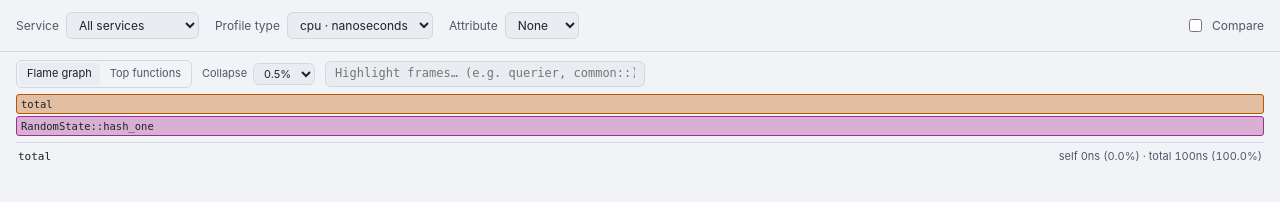
Test: ProfilesView › long Rust symbol names › shows the same tooltip on the top-functions rows
The image size is (1280, 202).
Expected: the button named "<std::hash::random::RandomState as core::hash::BuildHasher>::hash_one::<&uuid::Uuid>" is shown, [16,116,1264,136]
Click the tab "Top functions".
click(145, 74)  # box [102,63,189,85]
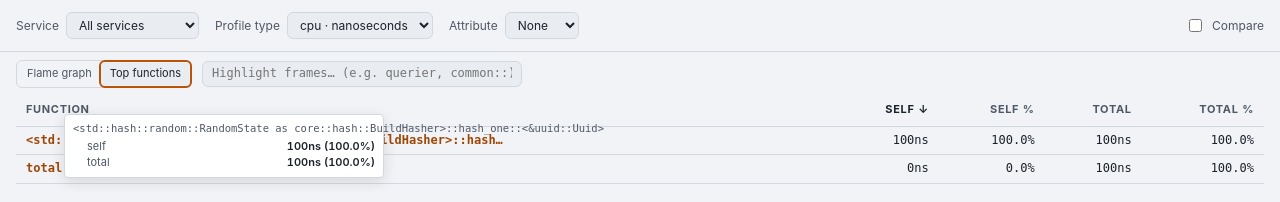
Now the text "<std::hash::random::RandomState as core::hash::BuildHasher>::hash_one::<&uuid::Uuid>" is shown, box [73,122,604,134]
